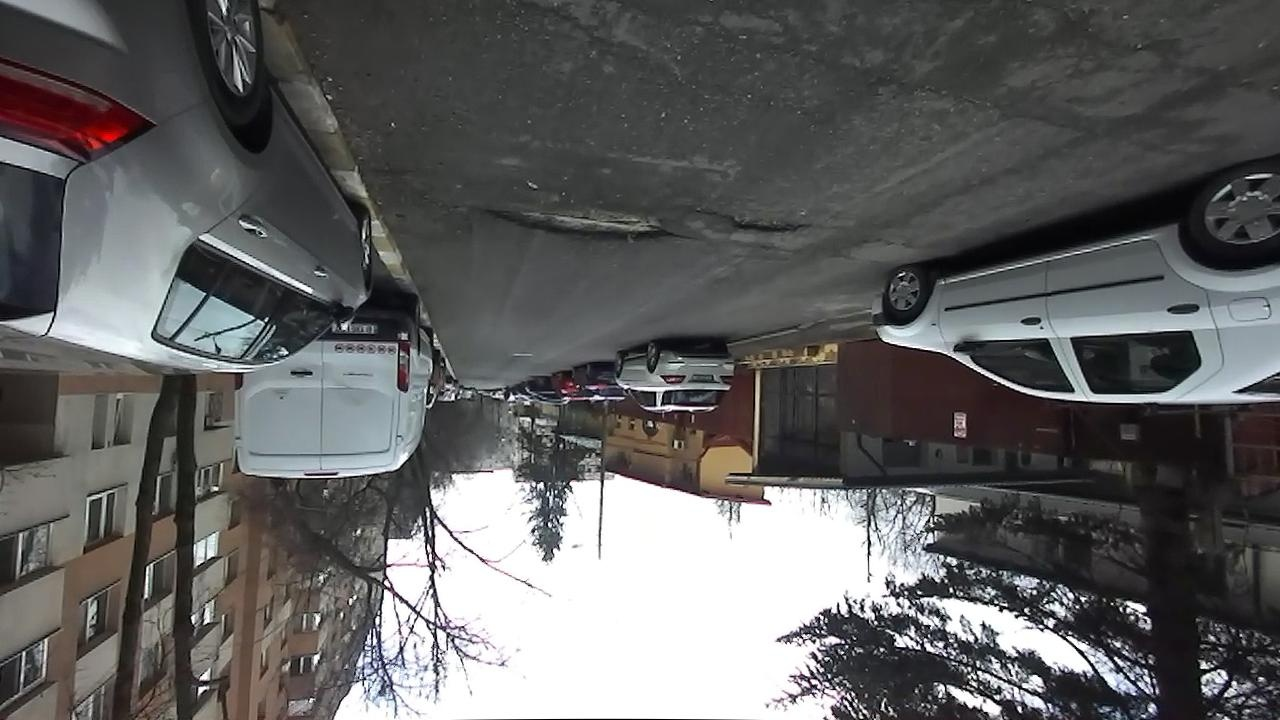pothole: (474, 198, 690, 248), (694, 204, 814, 238)
